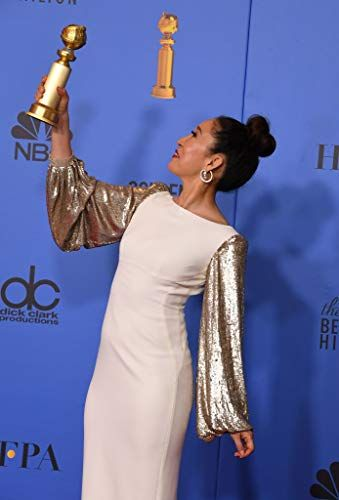hand: (34, 75, 64, 123)
